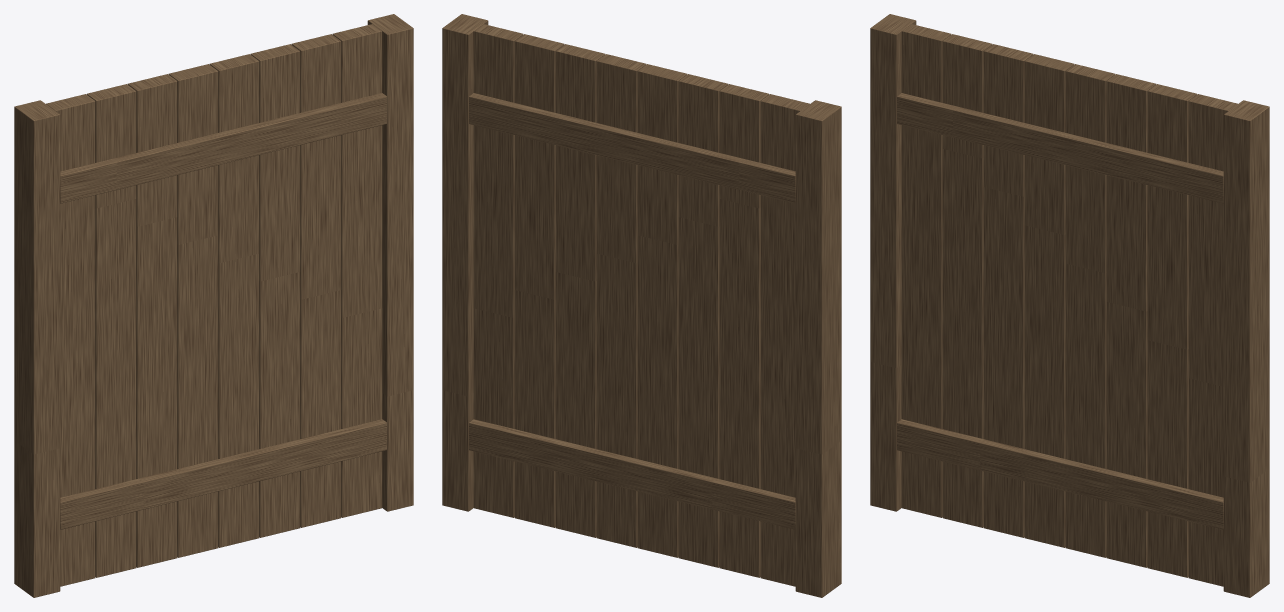
File: wood-wall.glb
3 views of the same model, side by side, from view 1: azimuth 30°, elevation 25°; view 2: azimuth 150°, elevation 25°; view 3: azimuth 330°, elevation 25° (orthographic).
Parts seen in each view (by area): view 1: wall_wood__boards, wall_wood__frame; view 2: wall_wood__boards, wall_wood__frame; view 3: wall_wood__boards, wall_wood__frame.
Part boxes in pixels (x1=…): wall_wood__boards: x1=46, y1=24, x2=382, y2=586; wall_wood__frame: x1=14, y1=14, x2=413, y2=597; wall_wood__boards: x1=473, y1=24, x2=809, y2=586; wall_wood__frame: x1=442, y1=14, x2=841, y2=597; wall_wood__boards: x1=901, y1=24, x2=1237, y2=586; wall_wood__frame: x1=870, y1=14, x2=1269, y2=597.
Size of the model in its own units: 2 by 2.4 by 0.18.
1 material, 1 textured.
